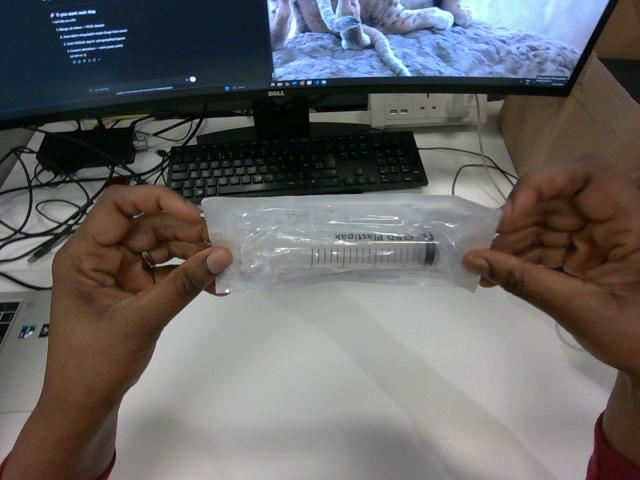syringe: (202, 194, 500, 291)
